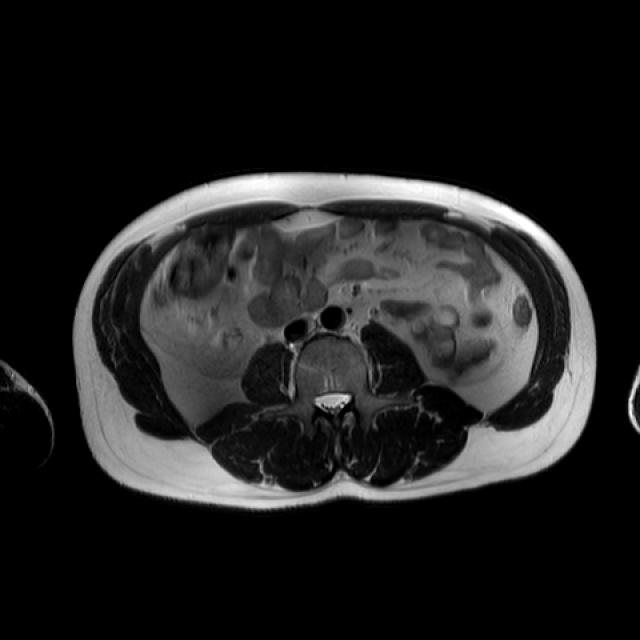sol: (407, 304, 462, 369)
